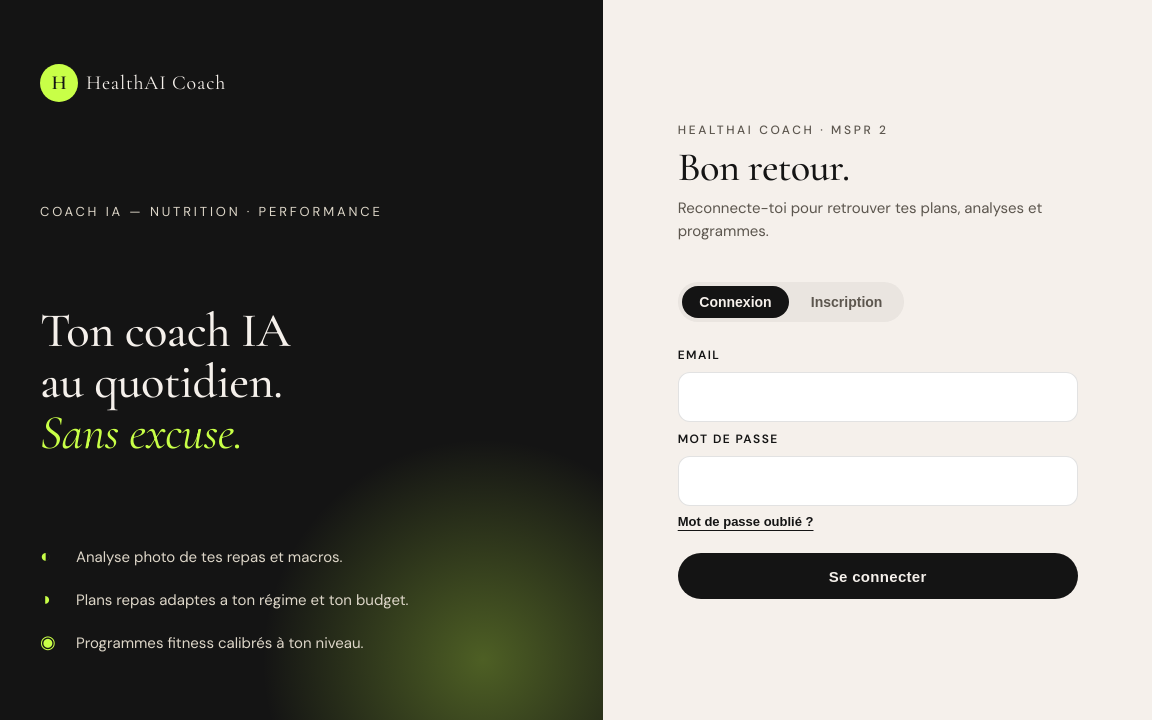
Test case: Authentication flow › affiche une erreur quand MSPR-AUTH refuse les credentials
Step 1. Type "ghost@healthai.local" into the field with id "login-email" → (878, 397), box [678,372,1078,422]
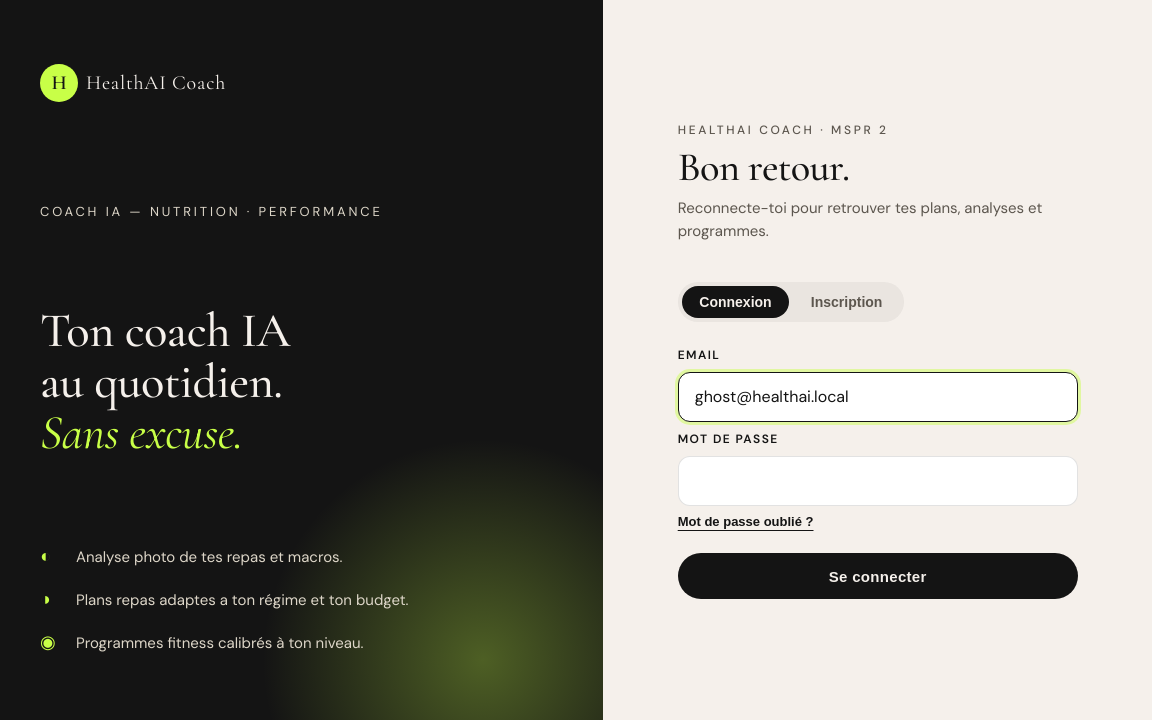
Step 2. Type "wrong-pass" into the password field with id "login-password" → (878, 481), box [678,456,1078,506]
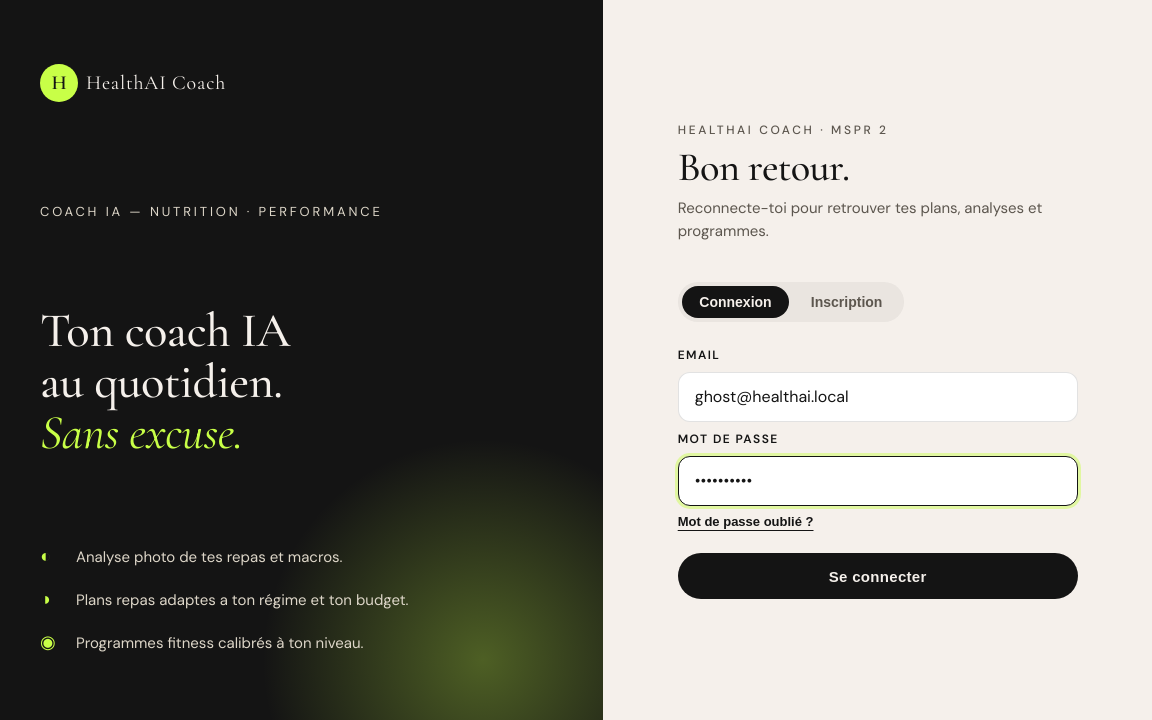
Step 3. Click the button "Se connecter" → (878, 576), box [678,553,1078,599]
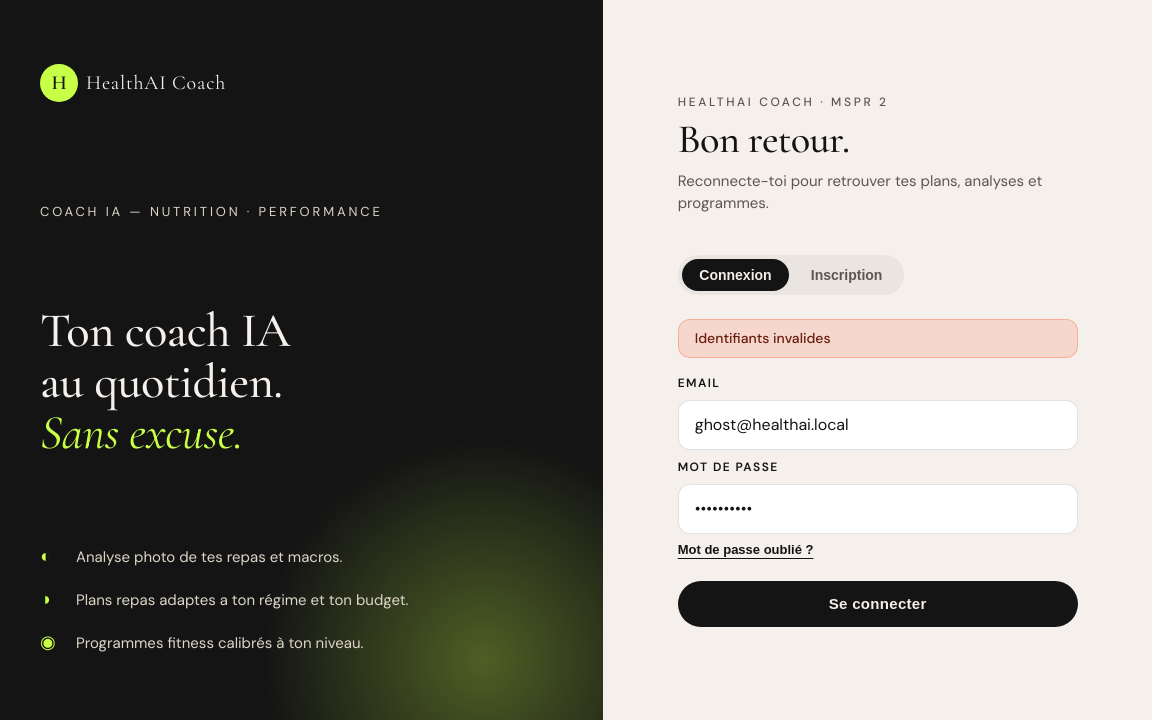
Result: the text "Identifiants invalides" is shown at [678,319,1078,358]
